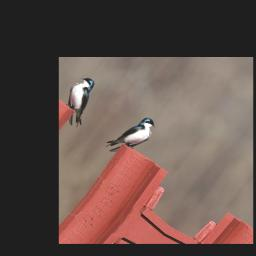Swallow: (103, 107, 161, 164)
